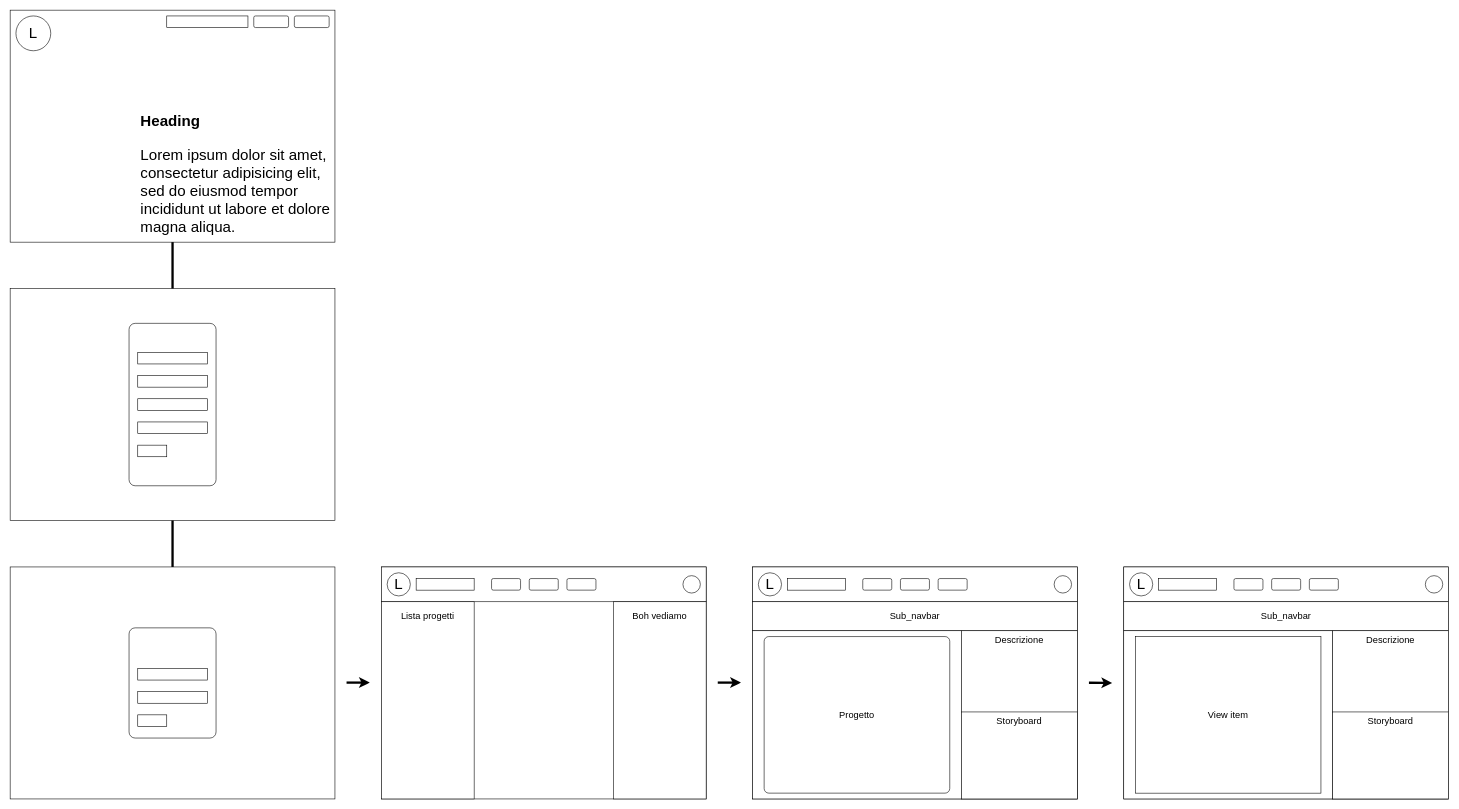
This 1459x809 diagram has some shape labels left out. Here are the shapes that lost their labels. From the top down, the box of each, then its label:
(128, 323, 216, 486): Register
(128, 627, 216, 738): Login
(381, 566, 706, 799): Dashboard
